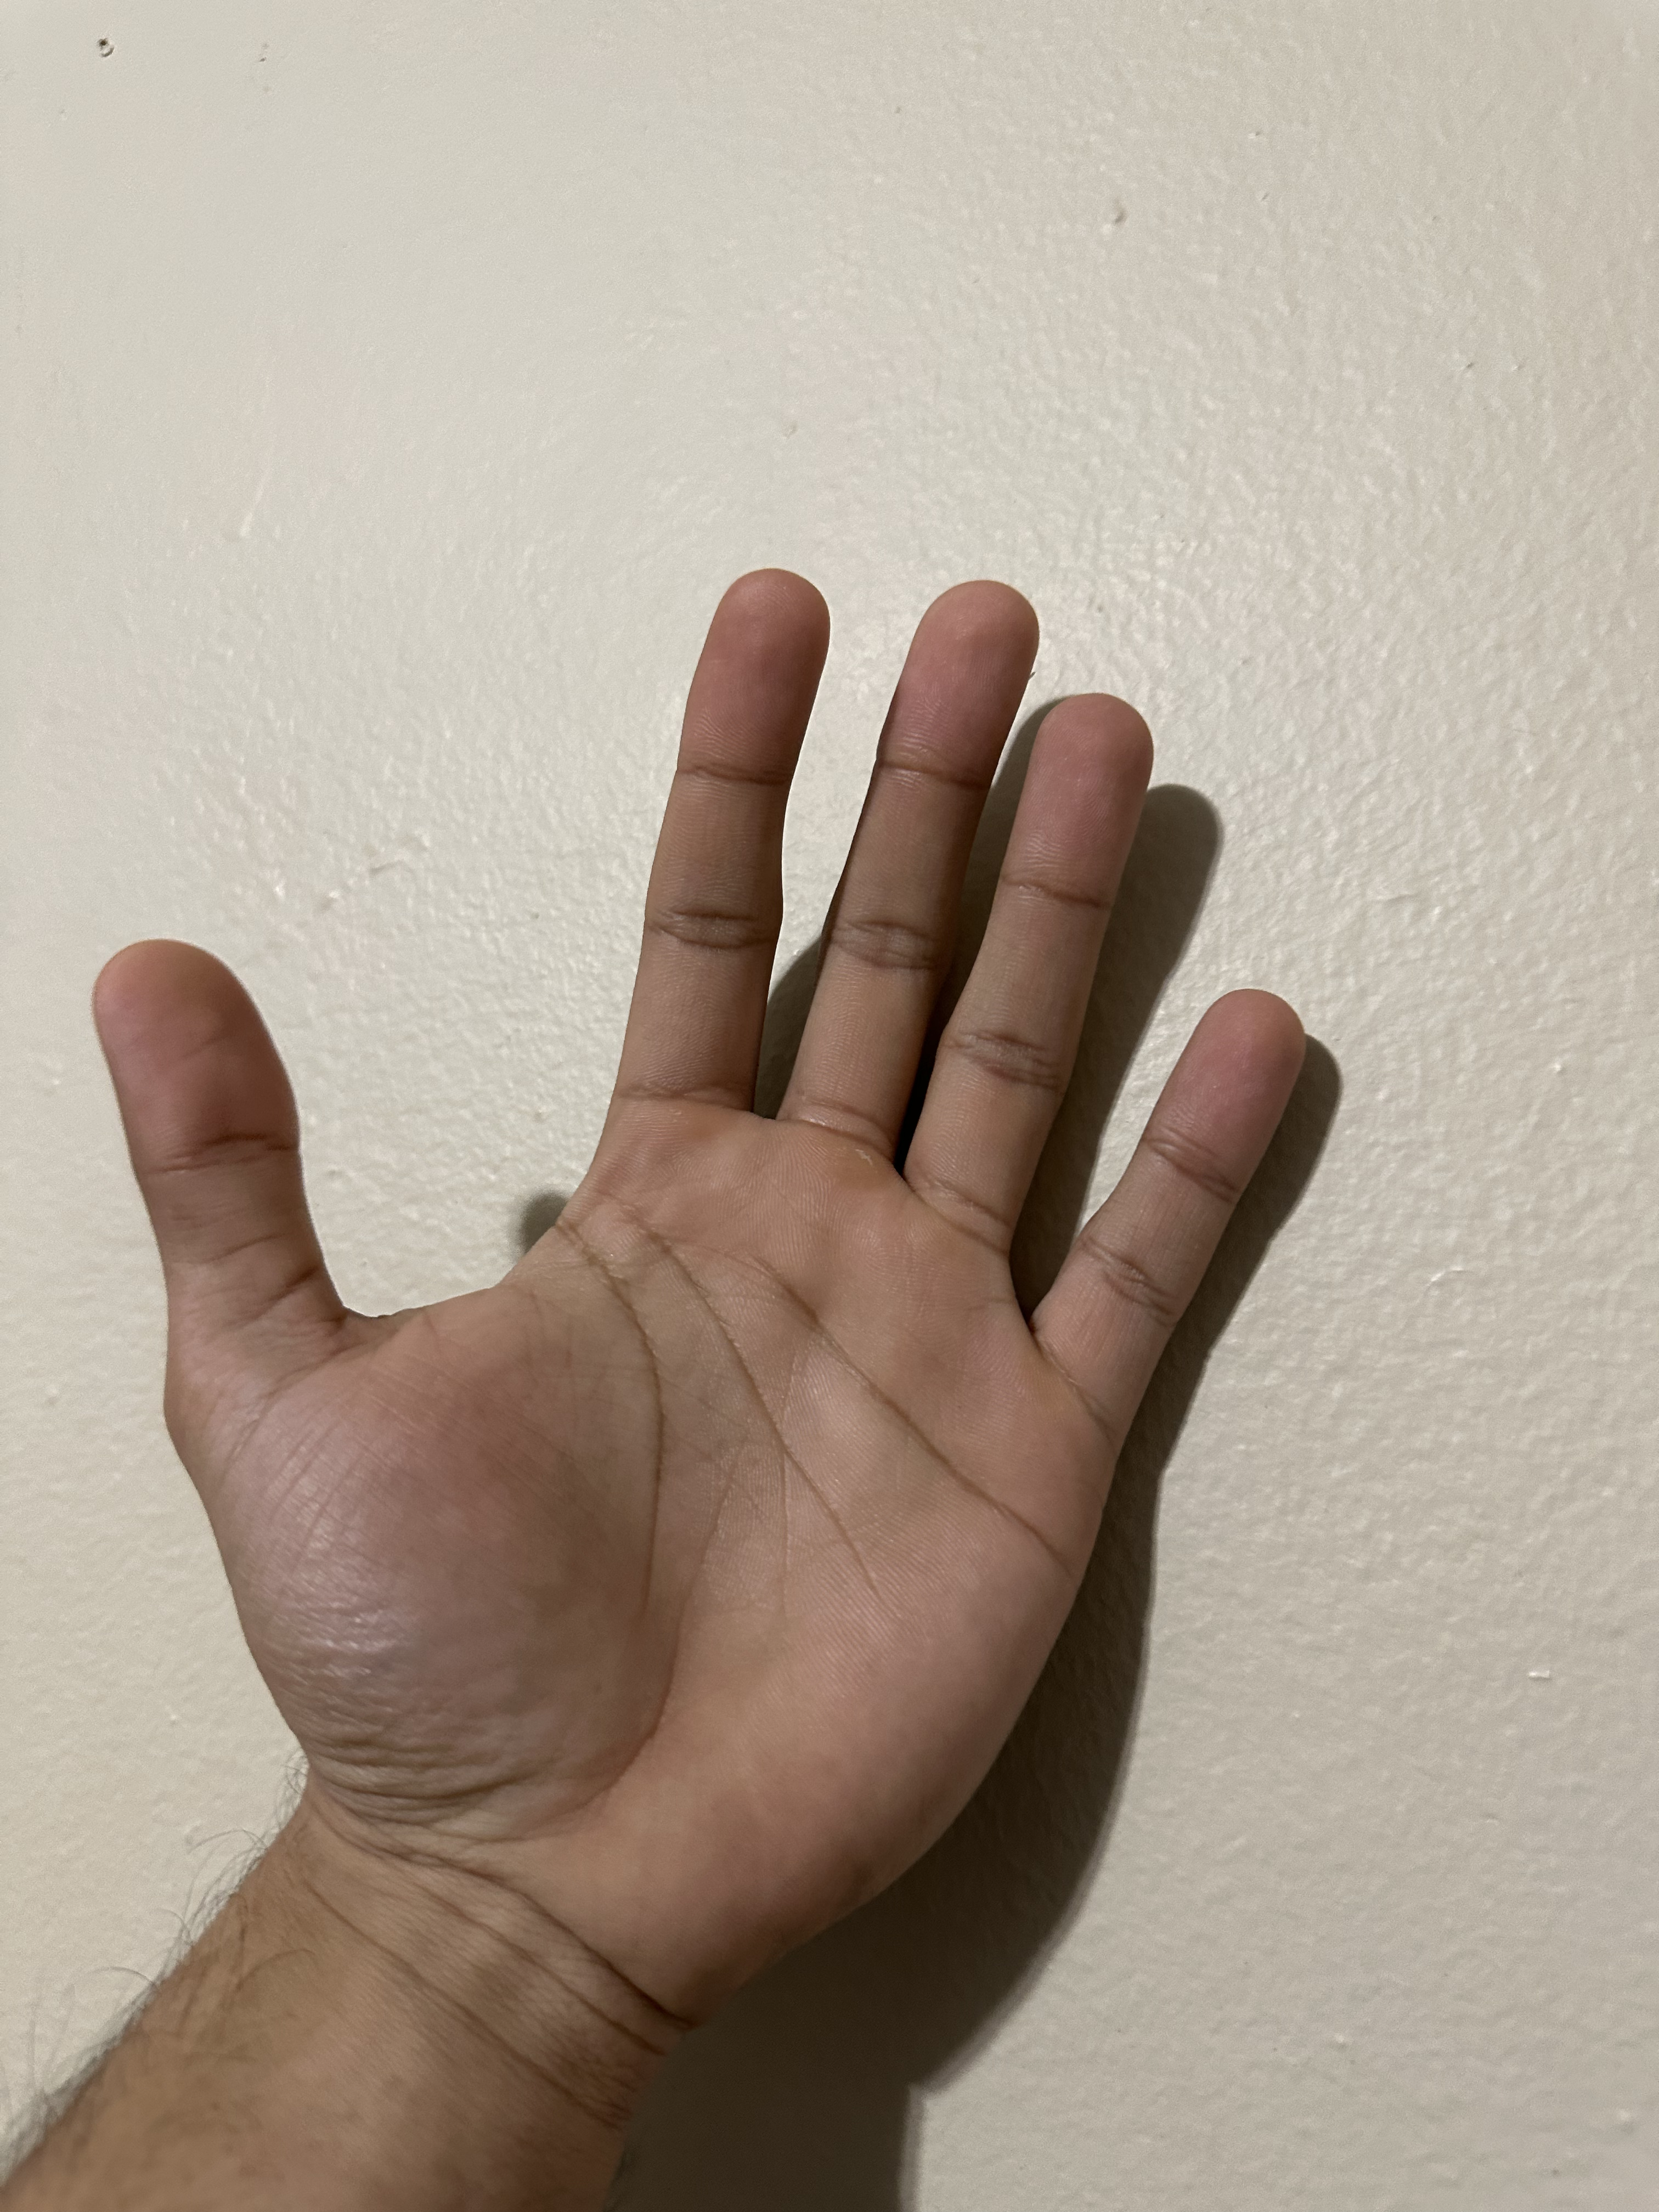finger: (56, 900, 319, 1177), (667, 535, 854, 791), (1161, 953, 1349, 1205), (890, 529, 1049, 806), (1016, 653, 1192, 902)
